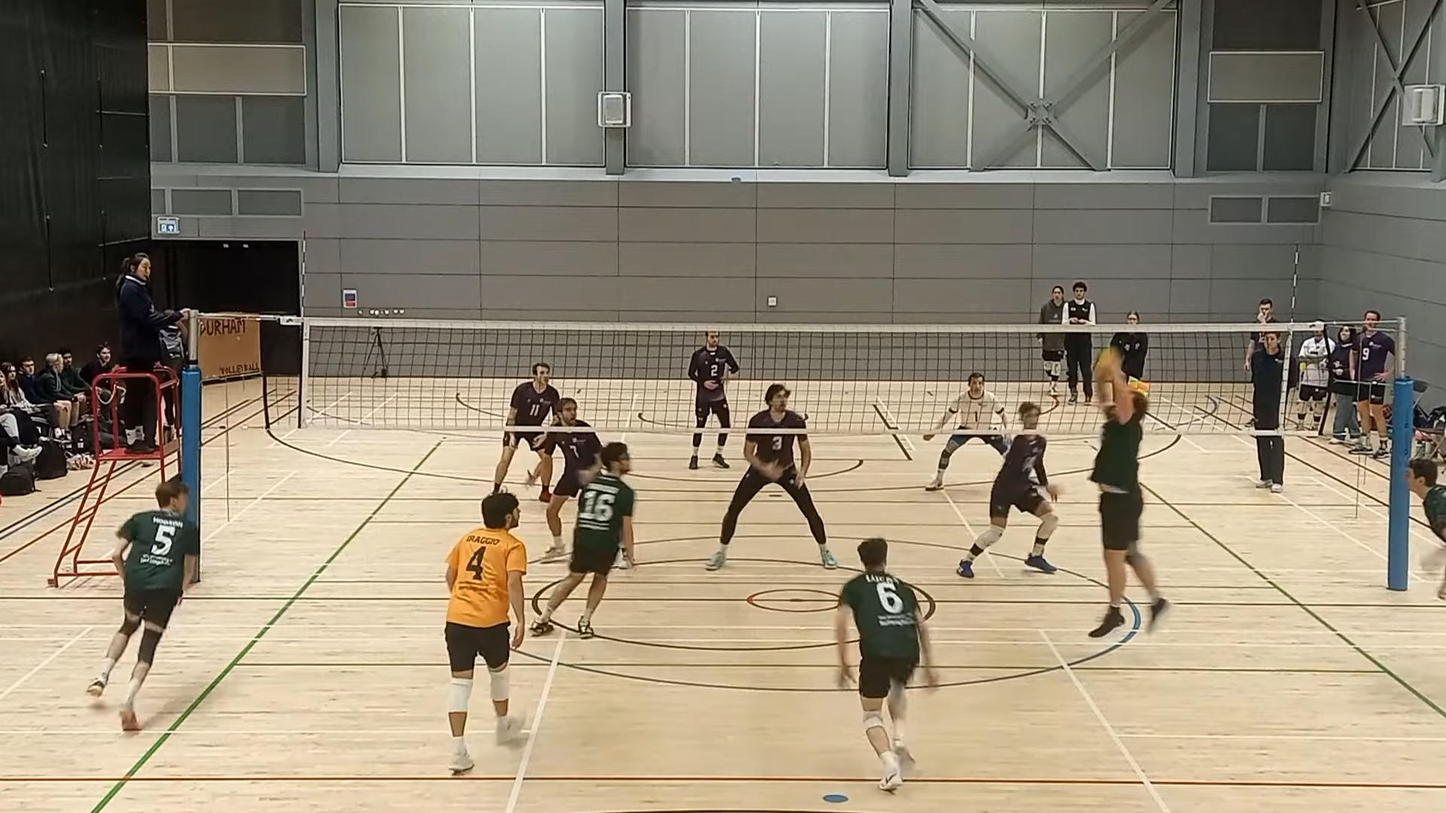Player: (87, 480, 199, 730), (834, 537, 937, 790), (706, 383, 837, 570), (444, 492, 526, 773), (531, 443, 634, 638), (956, 402, 1057, 577), (923, 372, 1008, 490), (493, 362, 560, 501), (541, 431, 601, 562), (688, 330, 739, 469)
Set: (1091, 348, 1153, 640)
ball: (1091, 350, 1124, 381)
